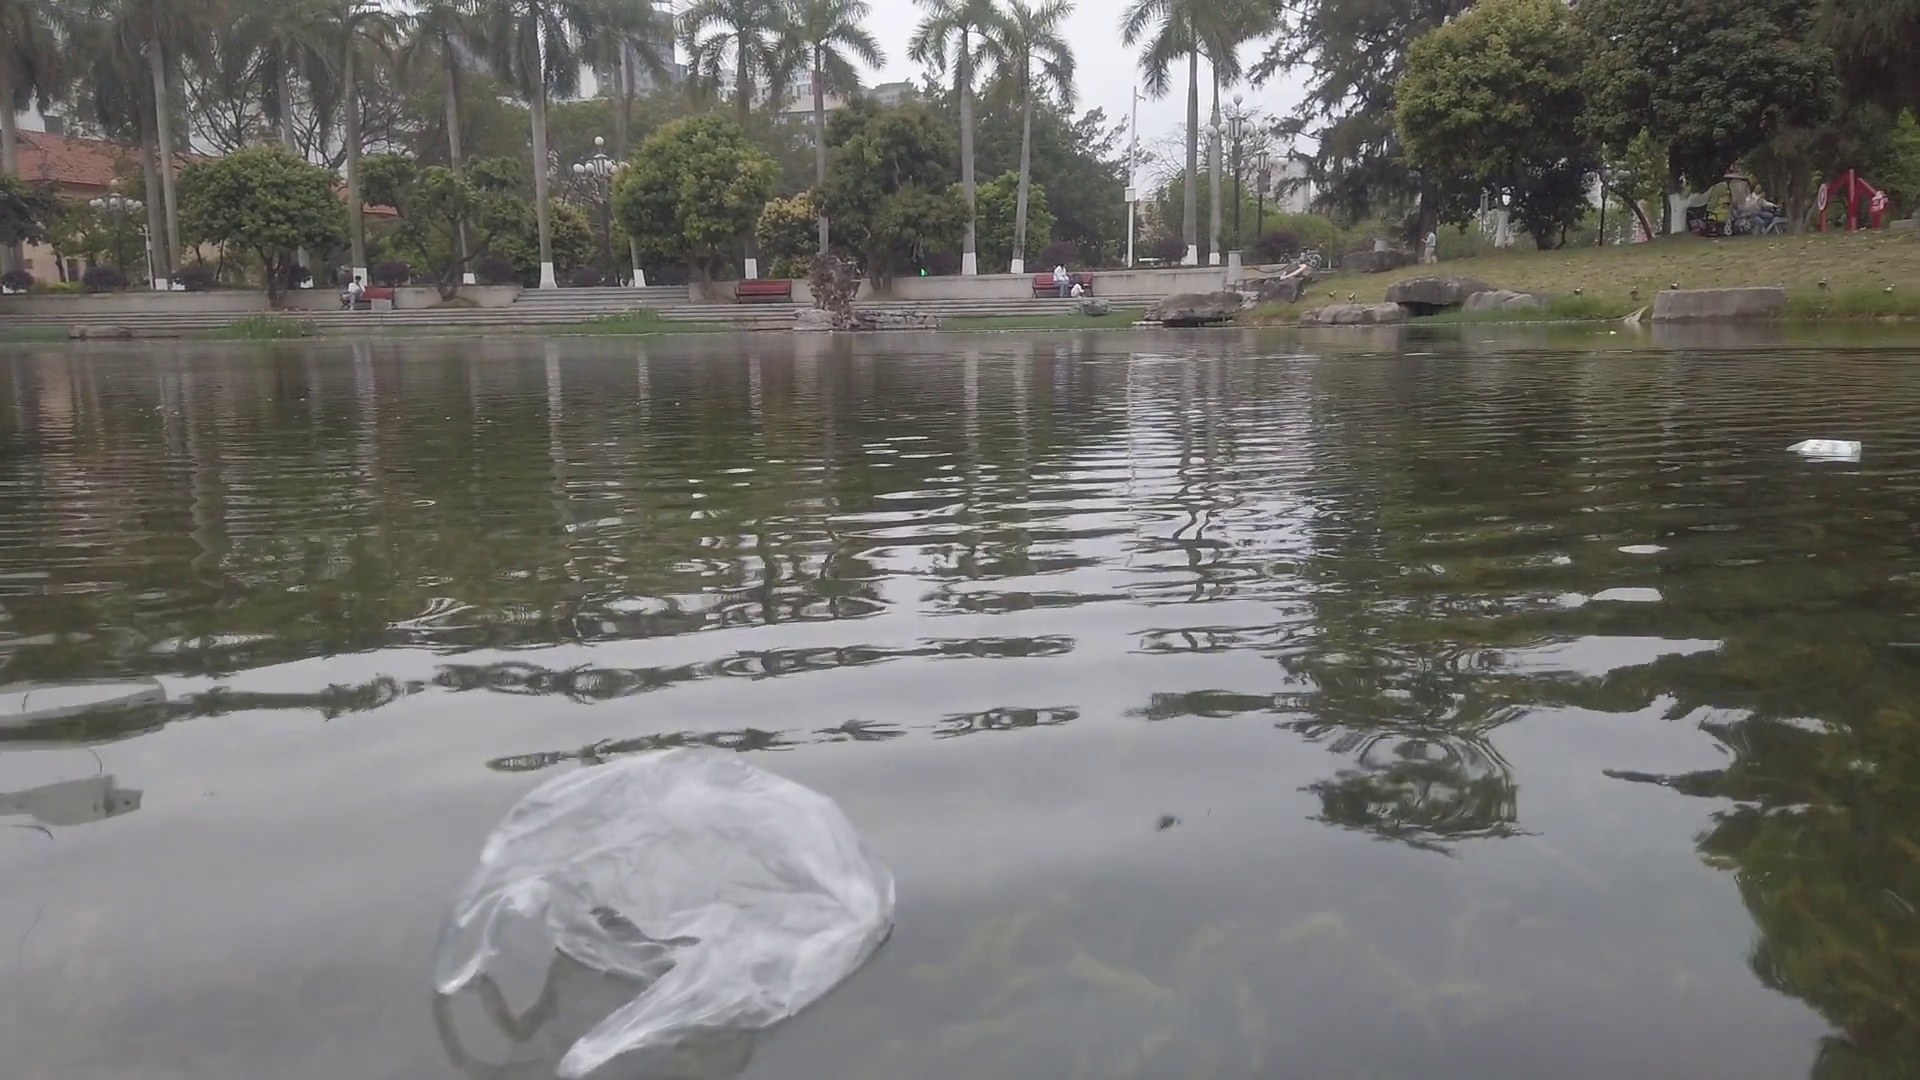carton: (1793, 436, 1866, 464)
plastic: (440, 740, 905, 1035)
